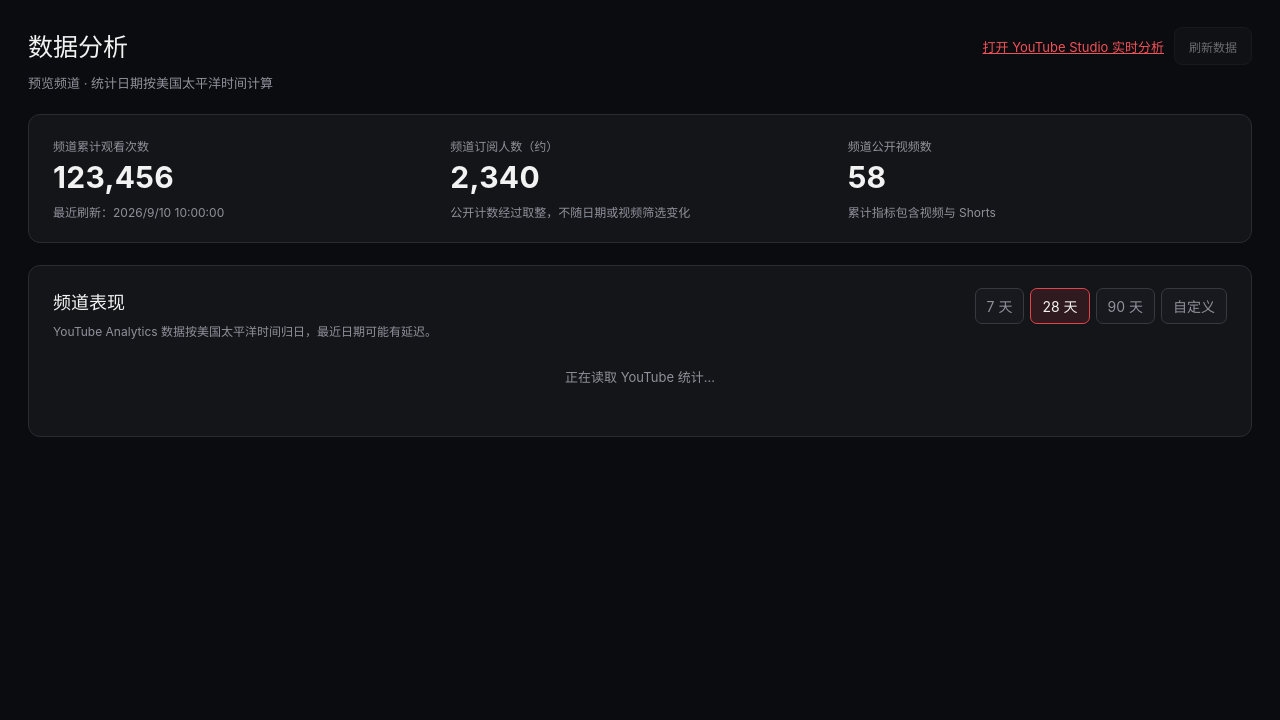
Scenario: ignores late reports when dates change and removes the previous range immediately
Check: the text "123,456" is shown, box [53,159,174,195]
Click the button "7 天" at (999, 306), box [974,288,1024,324]
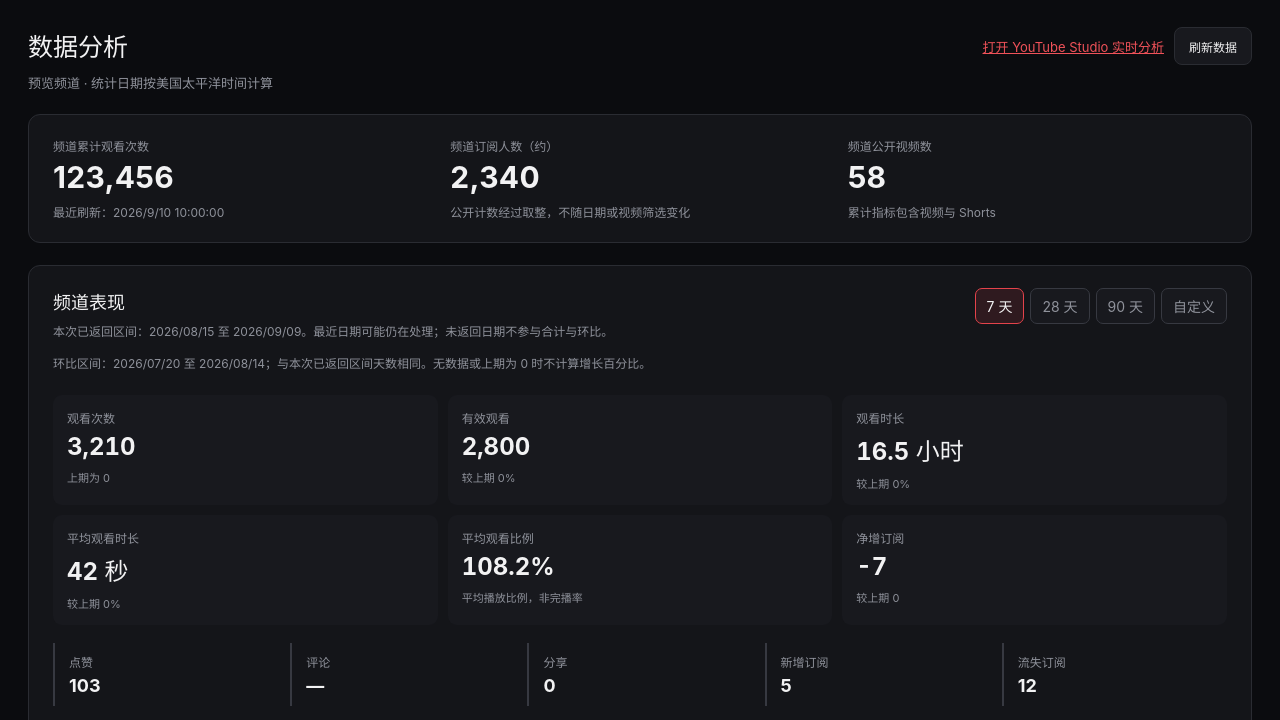
Check: the text "3,210" is shown, box [67,432,136,461]
Click the button "90 天" at (1125, 306), box [1096,288,1155,324]
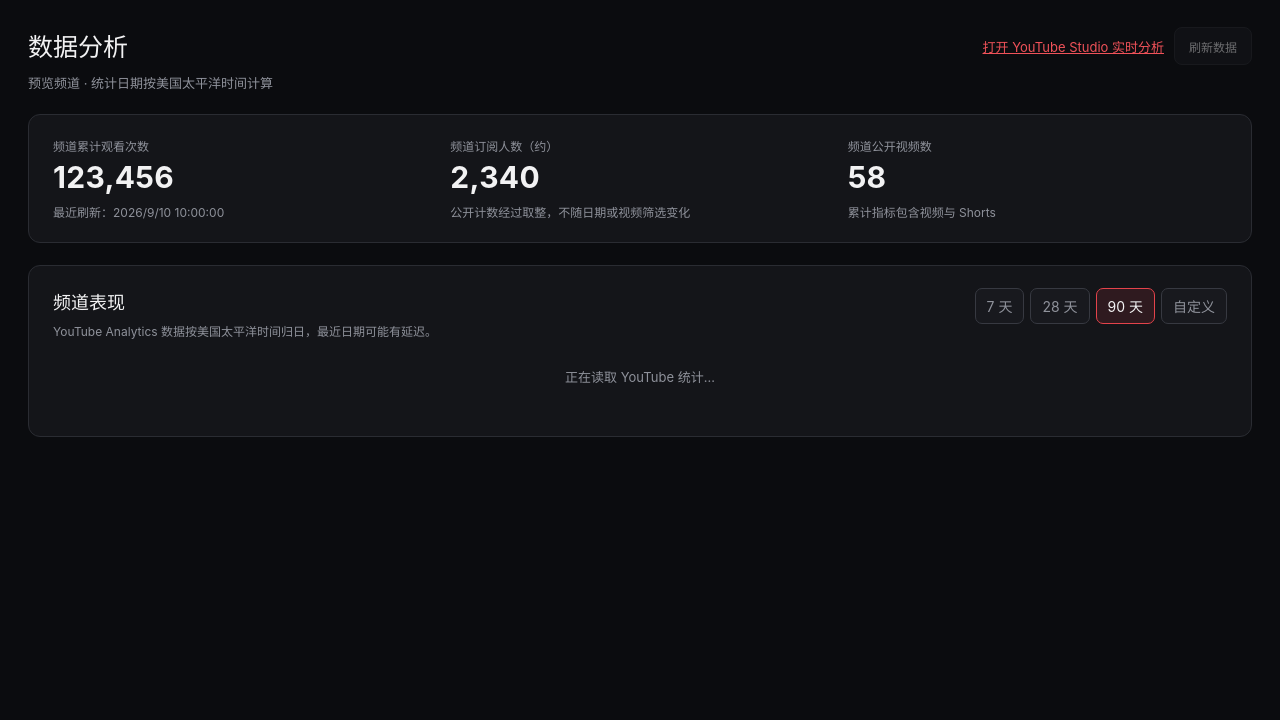
Check: the text "3,210" is gone
